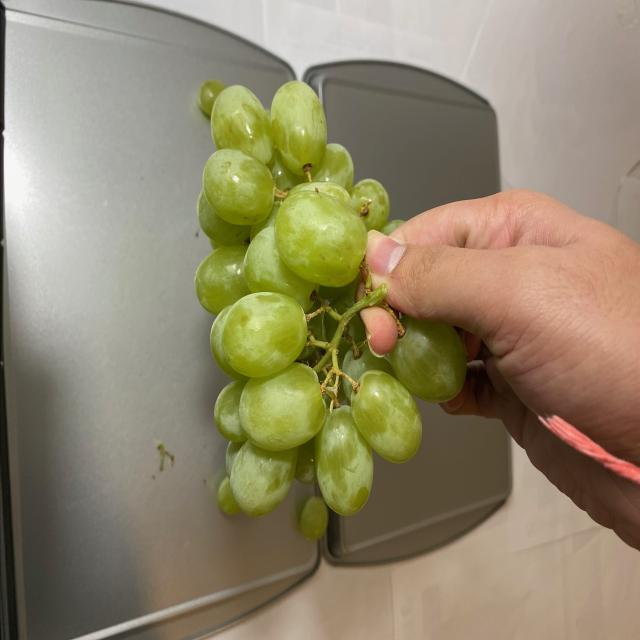grapes: (213, 76, 465, 540)
